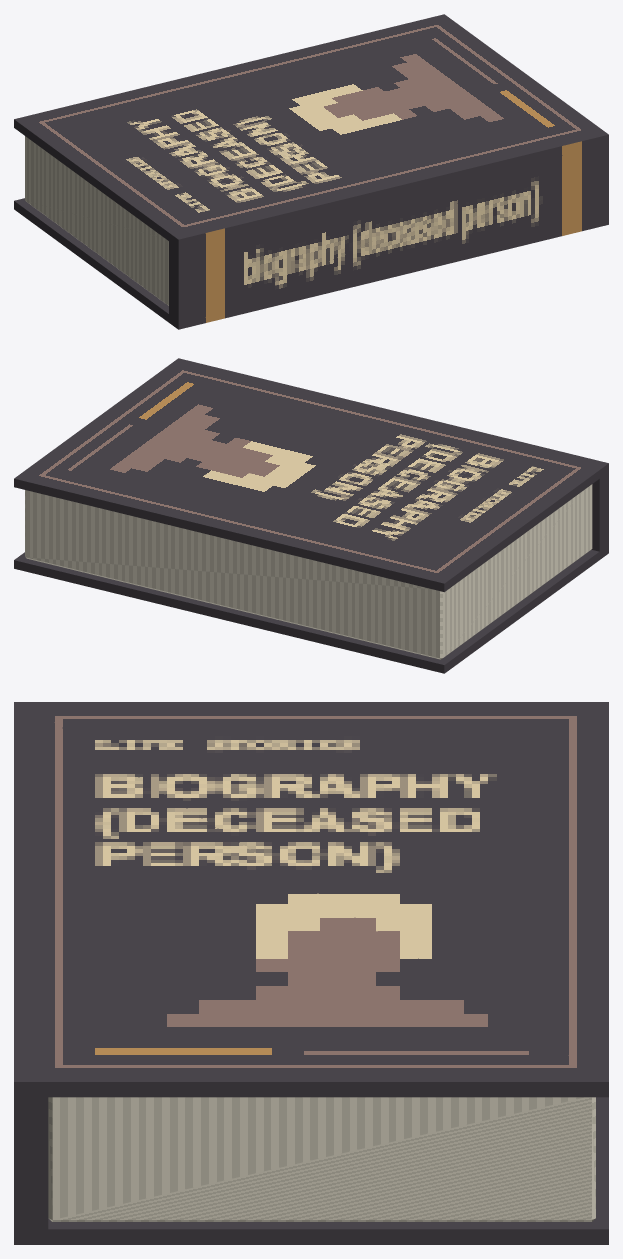
The model's file is book_nonf_hard_biography_dead.glb.
3 renders of one model, top to bottom at view 1: azimuth 30°, elevation 25°; view 2: azimuth 150°, elevation 25°; view 3: azimuth 270°, elevation 25°, orthographic. The views are drawn at different scales.
Visible parts, largest first — view 1: block_front, block_spine, block_pages, block_back; view 2: block_front, block_pages, block_back, block_spine; view 3: block_front, block_pages, block_spine, block_back.
Boxes of the visible parts, x1,y1,x2,y2 form: block_front: [14, 14, 606, 245]; block_spine: [169, 127, 608, 329]; block_pages: [25, 136, 168, 305]; block_back: [14, 198, 175, 327]; block_front: [14, 360, 606, 592]; block_pages: [25, 484, 592, 659]; block_back: [14, 547, 606, 673]; block_spine: [173, 358, 608, 554]; block_front: [22, 702, 608, 1097]; block_pages: [48, 1097, 595, 1221]; block_spine: [14, 702, 48, 1244]; block_back: [22, 1097, 608, 1244].
Size of the model in its own units: 0.255 by 0.051 by 0.1688.
1 material, 1 textured.
